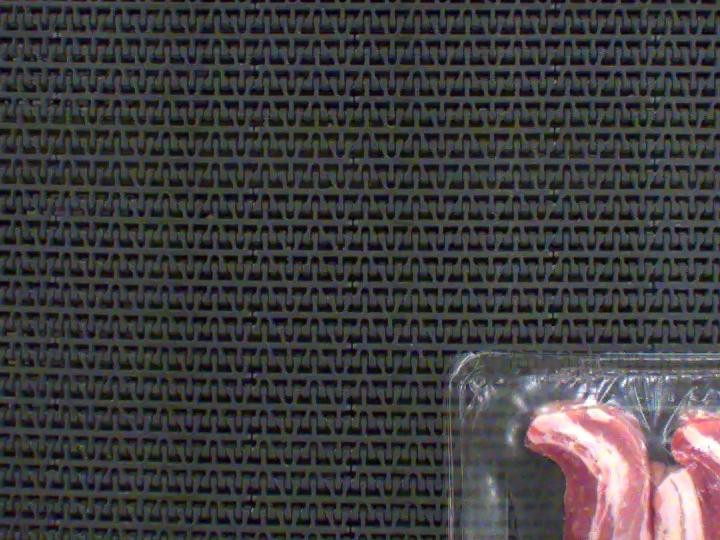unsealed: (450, 347, 720, 540)
